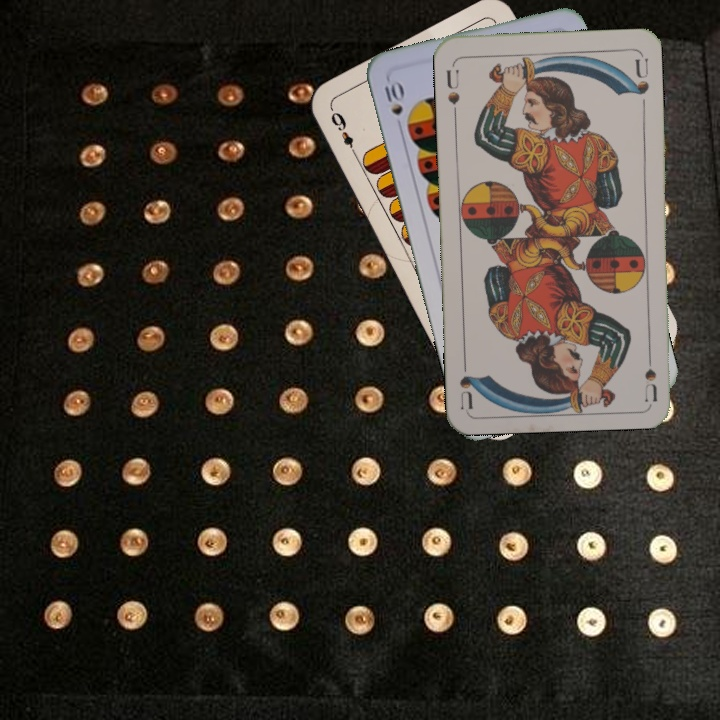E9: (326, 106, 360, 161)
S10: (380, 76, 406, 134)
SU: (640, 343, 660, 402), (442, 66, 462, 119)
